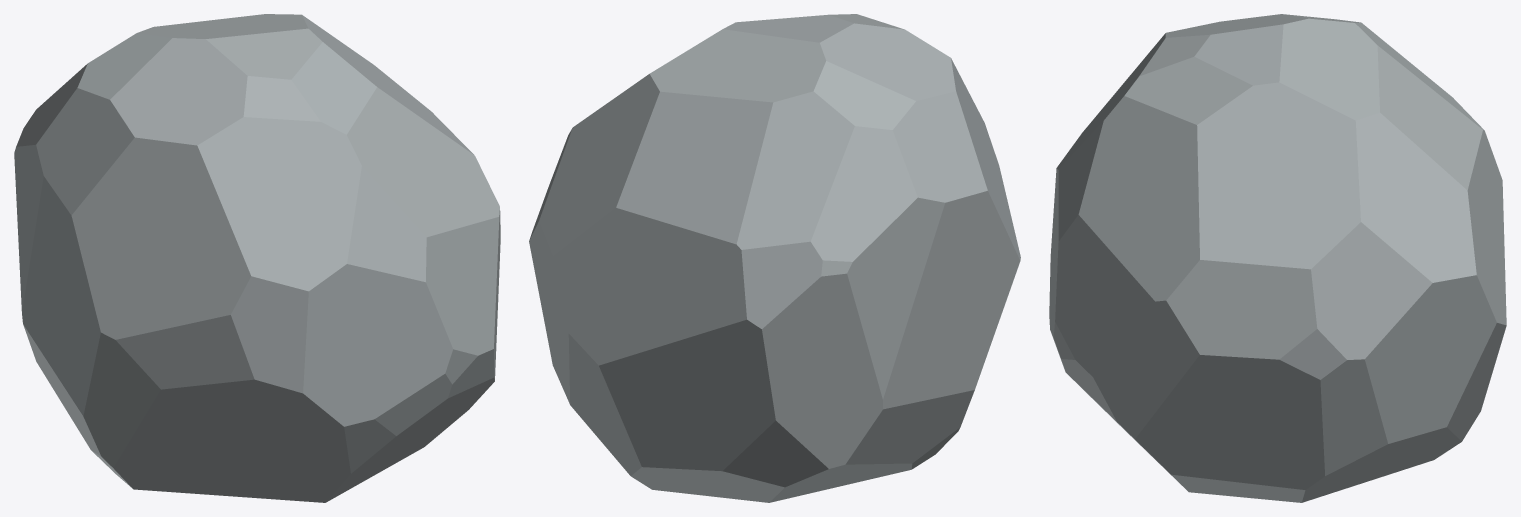
The model's file is NHP_Rock_Boulder_A1_02.fbx.
3 renders of one model, left to right at view 1: azimuth 30°, elevation 25°; view 2: azimuth 150°, elevation 25°; view 3: azimuth 270°, elevation 25°, orthographic. The views are drawn at different scales.
Parts seen in each view (by area): view 1: NHP_Rock_Boulder_A1_02; view 2: NHP_Rock_Boulder_A1_02; view 3: NHP_Rock_Boulder_A1_02.
Part boxes in pixels (x1=…): NHP_Rock_Boulder_A1_02: x1=14, y1=14, x2=500, y2=502; NHP_Rock_Boulder_A1_02: x1=529, y1=14, x2=1020, y2=502; NHP_Rock_Boulder_A1_02: x1=1049, y1=14, x2=1506, y2=502.
Size of the model in its own units: 1.59 by 1.52 by 1.6.
